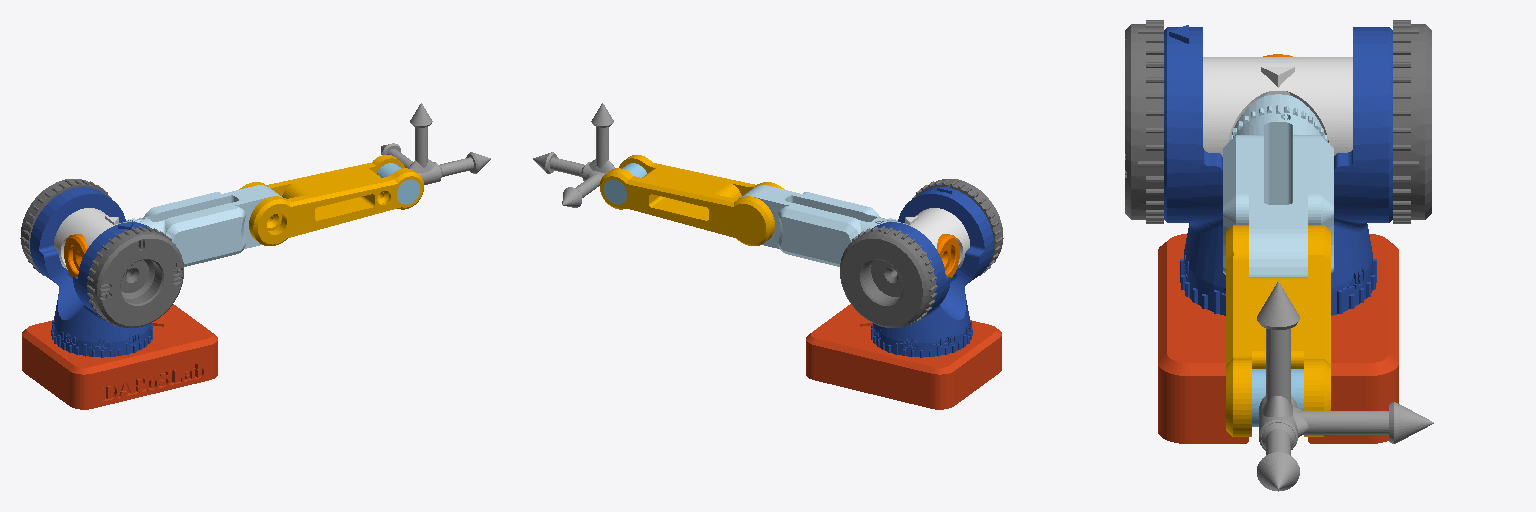
robot.urdf — MiniArm:
<robot name="MiniArm">
  <!-- Link Definitions -->
  <link name="base">
    <inertial>
      <origin rpy="0 0 0" xyz="-0.02148 0.00173 -0.04417"/>
      <mass value="0.6"/>
      <inertia ixx="0.06185585085" ixy="0.00052357046" ixz="-0.02204886469" iyy="0.46467853407" iyz="0.00058724812" izz="0.47162119244"/>
    </inertial>
     <visual>
      <geometry>
        <mesh filename="mesh_dae/BaseLink.dae" scale="10 10 10"/>
      </geometry>
    </visual>
  </link>

  <link name="column_link">
    <inertial>
      <origin rpy="0 0 0" xyz="-0.02148 0.00173 -0.04417"/>
      <mass value="0.6"/>
      <inertia ixx="0.06185585085" ixy="0.00052357046" ixz="-0.02204886469" iyy="0.46467853407" iyz="0.00058724812" izz="0.47162119244"/>
    </inertial>
     <visual>
      <geometry>
        <mesh filename="mesh_dae/ColumnLink.dae" scale="10 10 10"/>
      </geometry>
    </visual>
  </link>

  <link name="shoulder_pitch">
    <inertial>
      <origin rpy="0 0 0" xyz="-0.02148 0.00173 -0.04417"/>
      <mass value="0.6"/>
      <inertia ixx="0.06185585085" ixy="0.00052357046" ixz="-0.02204886469" iyy="0.46467853407" iyz="0.00058724812" izz="0.47162119244"/>
    </inertial>
     <visual>
      <geometry>
        <mesh filename="mesh_dae/ShoulderPitch.dae" scale="10 10 10"/>
      </geometry>
    </visual>
  </link>

  <link name="arm_1">
    <inertial>
      <origin rpy="0 0 0" xyz="-0.02148 0.00173 -0.04417"/>
      <mass value="0.6"/>
      <inertia ixx="0.06185585085" ixy="0.00052357046" ixz="-0.02204886469" iyy="0.46467853407" iyz="0.00058724812" izz="0.47162119244"/>
    </inertial>
     <visual>
      <geometry>
        <mesh filename="mesh_dae/ArmLink1.dae" scale="10 10 10"/>
      </geometry>
    </visual>
  </link>

  <link name="arm_2">
    <inertial>
      <origin rpy="0 0 0" xyz="-0.02148 0.00173 -0.04417"/>
      <mass value="0.6"/>
      <inertia ixx="0.06185585085" ixy="0.00052357046" ixz="-0.02204886469" iyy="0.46467853407" iyz="0.00058724812" izz="0.47162119244"/>
    </inertial>
     <visual>
      <geometry>
        <mesh filename="mesh_dae/ArmLink2.dae" scale="10 10 10"/>
      </geometry>
    </visual>
  </link>

  <link name="wrist_pitch">
    <inertial>
      <origin rpy="0 0 0" xyz="-0.02148 0.00173 -0.04417"/>
      <mass value="0.6"/>
      <inertia ixx="0.06185585085" ixy="0.00052357046" ixz="-0.02204886469" iyy="0.46467853407" iyz="0.00058724812" izz="0.47162119244"/>
    </inertial>
     <visual>
      <geometry>
        <mesh filename="mesh_dae/WristPitch.dae" scale="10 10 10"/>
      </geometry>
    </visual>
  </link>

  <link name="ee_link">
    <inertial>
      <origin rpy="0 0 0" xyz="-0.02148 0.00173 -0.04417"/>
      <mass value="0.6"/>
      <inertia ixx="0.06185585085" ixy="0.00052357046" ixz="-0.02204886469" iyy="0.46467853407" iyz="0.00058724812" izz="0.47162119244"/>
    </inertial>
     <visual>
      <geometry>
        <!-- <mesh filename="mesh_obj/EE_Frame.obj" scale="1.01 0.01 0.01"/> -->
        <mesh filename="mesh_dae/EE_Frame.dae" scale="10 10 10"/>
      </geometry>
    </visual>
  </link>

  <!-- Joint Definitions -->
  <joint name="miniarm_joint1" type="revolute">
    <parent link="base"/>
    <child link="column_link"/>
    <origin xyz="-0.06 0 0" rpy="0 0 0"/>
    <axis xyz="0 0 1"/>
    <limit lower="-50" upper="50"/>
  </joint>

  <joint name="miniarm_joint2" type="revolute">
    <parent link="column_link"/>
    <child link="shoulder_pitch"/>
    <origin xyz="0 0 0.4" rpy="0 0 0"/>
    <axis xyz="0 1 0"/>
    <limit lower="-50" upper="50"/>
  </joint>

  <joint name="miniarm_joint3" type="revolute">
    <parent link="shoulder_pitch"/>
    <child link="arm_1"/>
    <origin xyz="0 0 0" rpy="0 0 0"/>
    <axis xyz="1 0 0"/>
    <limit lower="-50" upper="50"/>
  </joint>

  <joint name="miniarm_joint4" type="revolute">
    <parent link="arm_1"/>
    <child link="arm_2"/>
    <origin xyz="0.55 0 0" rpy="0 0 0"/>
    <axis xyz="0 1 0"/>
    <limit lower="-50" upper="50"/>
  </joint>

  <joint name="miniarm_joint5" type="revolute">
    <parent link="arm_2"/>
    <child link="wrist_pitch"/>
    <origin xyz="0.45 0 0" rpy="0 0 0"/>
    <axis xyz="0 1 0"/>
    <limit lower="-20" upper="20"/>
  </joint>

  <joint name="miniarm_joint6" type="revolute">
    <parent link="wrist_pitch"/>
    <child link="ee_link"/>
    <origin xyz="0.09 0 0" rpy="0 0 0"/>
    <axis xyz="1 0 0"/>
    <limit lower="-20" upper="20"/>
  </joint>

</robot>

--- Render facts (derived) ---
3 views of the same robot in one strip: view 1: azimuth 30°, elevation 25°; view 2: azimuth 150°, elevation 25°; view 3: azimuth 270°, elevation 25° (orthographic).
Robot: MiniArm — 7 links, 6 joints (6 revolute); root link base; default pose: every joint at zero.
Links seen in each view (by area): view 1: base, shoulder_pitch, column_link, arm_2, arm_1, ee_link, wrist_pitch; view 2: base, shoulder_pitch, column_link, arm_2, arm_1, ee_link, wrist_pitch; view 3: shoulder_pitch, column_link, base, arm_1, arm_2, ee_link, wrist_pitch.
Boxes of the visible links, x1=… form: base: x1=22, y1=304, x2=217, y2=409; shoulder_pitch: x1=20, y1=179, x2=183, y2=327; column_link: x1=30, y1=187, x2=152, y2=357; arm_2: x1=239, y1=155, x2=423, y2=245; arm_1: x1=64, y1=185, x2=282, y2=277; ee_link: x1=381, y1=103, x2=490, y2=184; wrist_pitch: x1=377, y1=163, x2=419, y2=204; base: x1=806, y1=304, x2=1001, y2=409; shoulder_pitch: x1=840, y1=179, x2=1003, y2=327; column_link: x1=871, y1=186, x2=993, y2=357; arm_2: x1=600, y1=155, x2=784, y2=245; arm_1: x1=739, y1=185, x2=959, y2=277; ee_link: x1=533, y1=103, x2=614, y2=207; wrist_pitch: x1=604, y1=163, x2=646, y2=204; shoulder_pitch: x1=1125, y1=20, x2=1431, y2=223; column_link: x1=1164, y1=25, x2=1392, y2=315; base: x1=1158, y1=234, x2=1398, y2=443; arm_1: x1=1223, y1=54, x2=1333, y2=276; arm_2: x1=1226, y1=225, x2=1330, y2=436; ee_link: x1=1257, y1=281, x2=1433, y2=491; wrist_pitch: x1=1252, y1=369, x2=1303, y2=426.
Size in the robot's own frame: 1.52 by 0.475 by 0.64 metres.
Meshes: 7 distinct files referenced, 7 mesh visuals loaded (7 Collada DAE).
